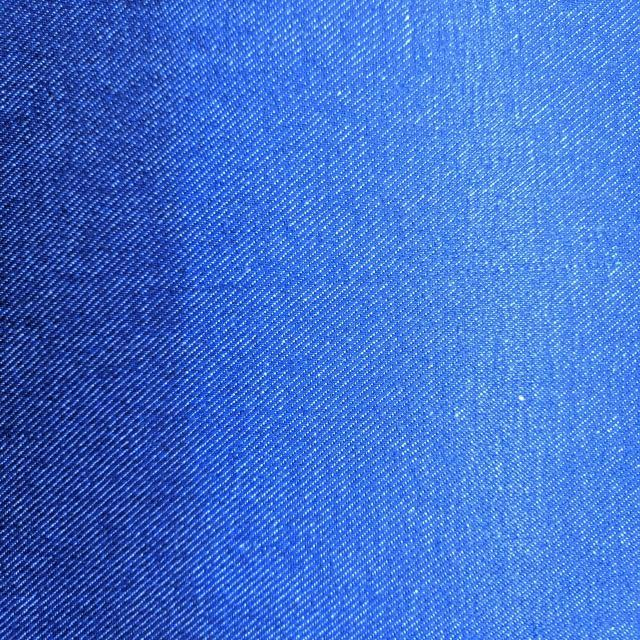Line: (80, 253, 595, 307)
